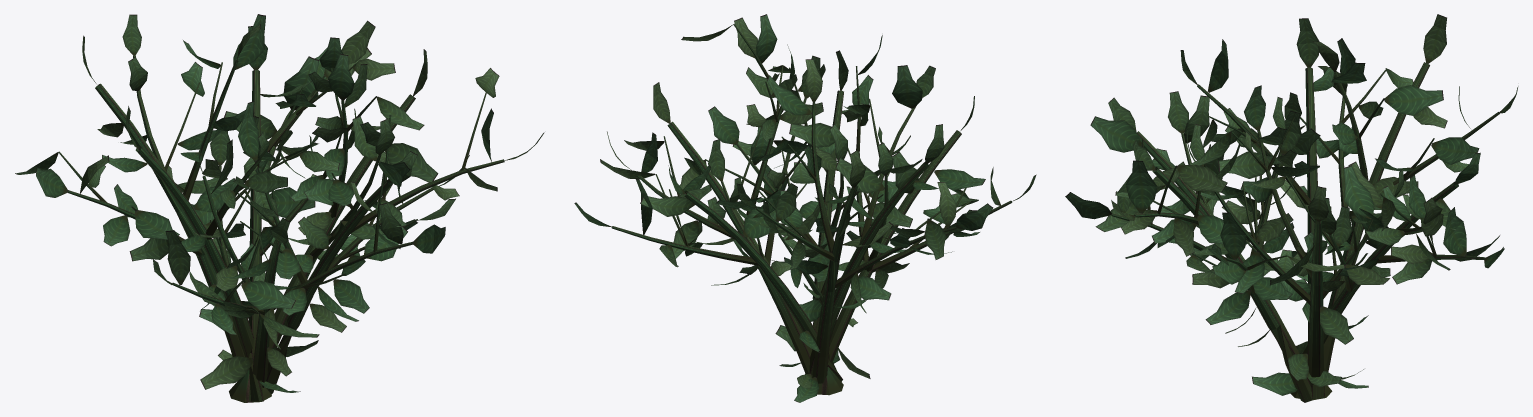
The model's file is busch2_neu.fbx.
3 views of the same model, side by side, from view 1: azimuth 30°, elevation 25°; view 2: azimuth 150°, elevation 25°; view 3: azimuth 270°, elevation 25° (orthographic). The views are drawn at different scales.
Visible parts, largest first — view 1: Busch2; view 2: Busch2; view 3: Busch2.
Part boxes in pixels (x1,y1,x2,y2): Busch2: [15, 14, 544, 402]; Busch2: [574, 14, 1036, 402]; Busch2: [1065, 14, 1518, 402].
Bounding box in the file's own units: 125 × 108 × 123.
